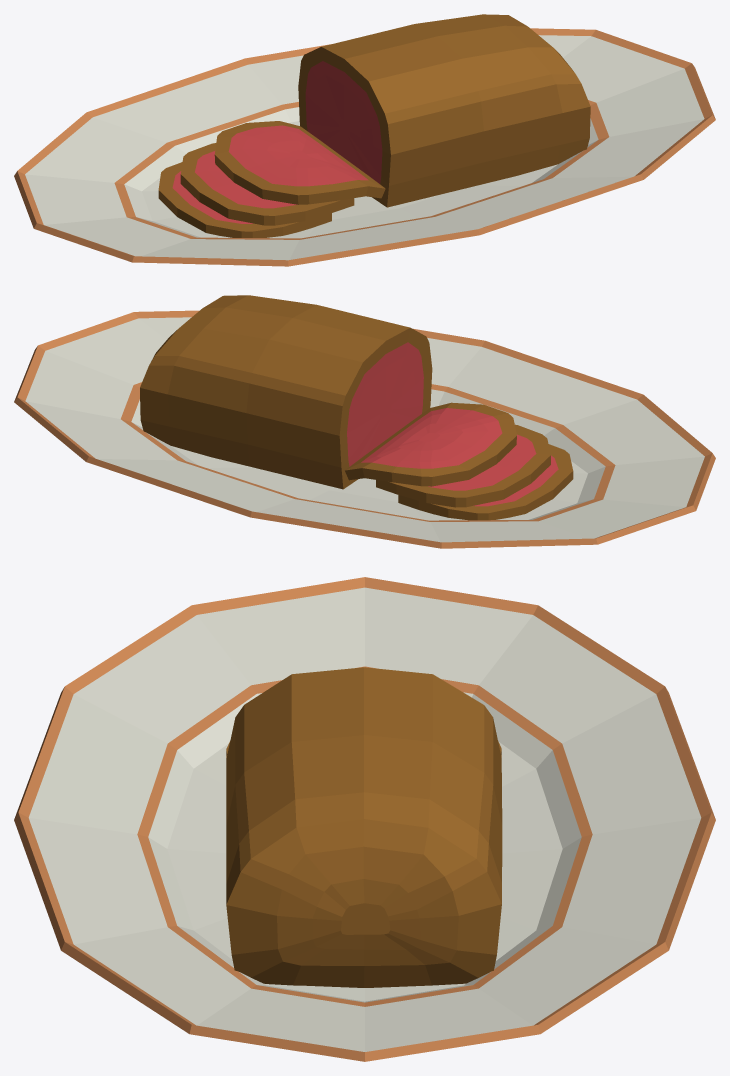
The model's file is Big_plat_meat.fbx.
The picture shows the model from 3 angles, top to bottom: view 1: azimuth 30°, elevation 25°; view 2: azimuth 150°, elevation 25°; view 3: azimuth 270°, elevation 25°; orthographic projection. The views are drawn at different scales.
Parts seen in each view (by area): view 1: Big_plat_meat; view 2: Big_plat_meat; view 3: Big_plat_meat.
Boxes of the visible parts, x1,y1,x2,y2 form: Big_plat_meat: (14,14,715,266); Big_plat_meat: (14,295,715,548); Big_plat_meat: (14,577,715,1061).
Size of the model in its own units: 0.5151 by 0.0946 by 0.3187.
